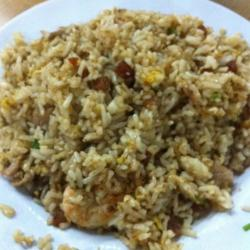rice: (7, 12, 250, 227)
